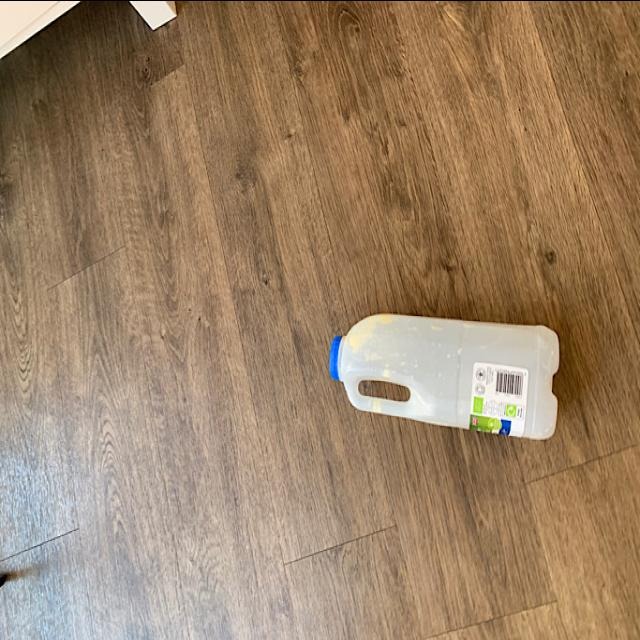litter: (328, 307, 565, 445)
